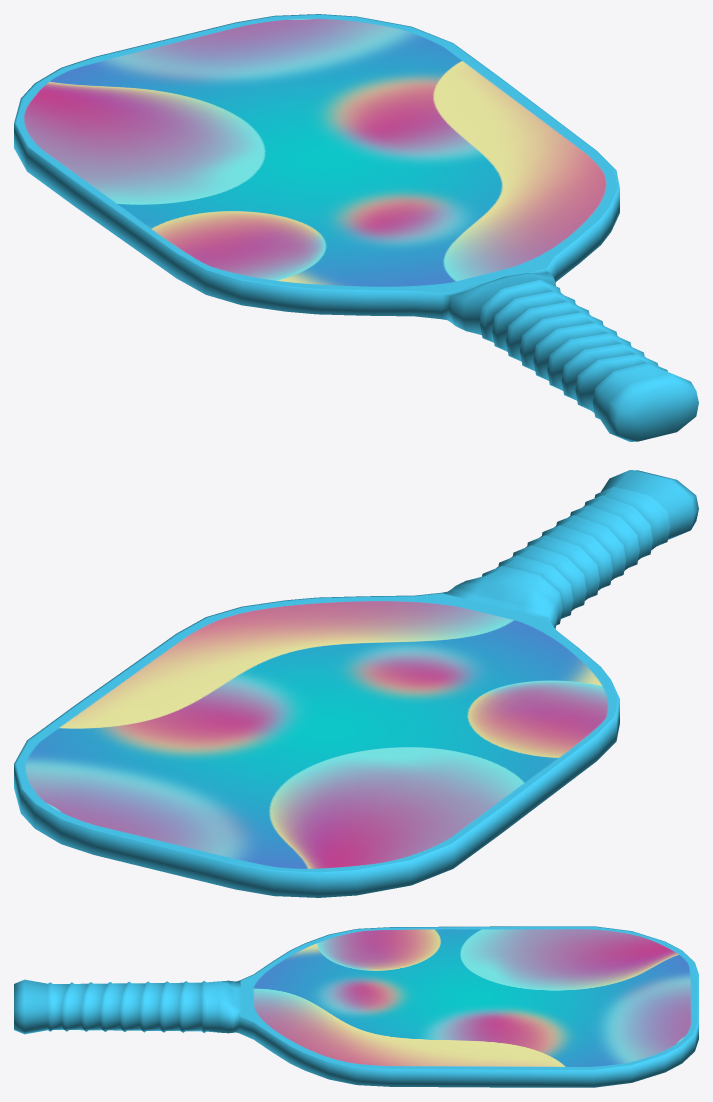
File: Racket_Pickelball10.fbx
3 renders of one model, top to bottom at view 1: azimuth 30°, elevation 25°; view 2: azimuth 150°, elevation 25°; view 3: azimuth 270°, elevation 25°, orthographic. The views are drawn at different scales.
Parts seen in each view (by area): view 1: Racket_Pickelball10; view 2: Racket_Pickelball10; view 3: Racket_Pickelball10.
Boxes of the visible parts, x1=… form: Racket_Pickelball10: x1=14, y1=14, x2=698, y2=441; Racket_Pickelball10: x1=14, y1=470, x2=698, y2=897; Racket_Pickelball10: x1=14, y1=926, x2=698, y2=1087.
Bounding box in the file's own units: 8.1 × 1.07 × 16.24.
Materials: 1 (1 with a texture image).
